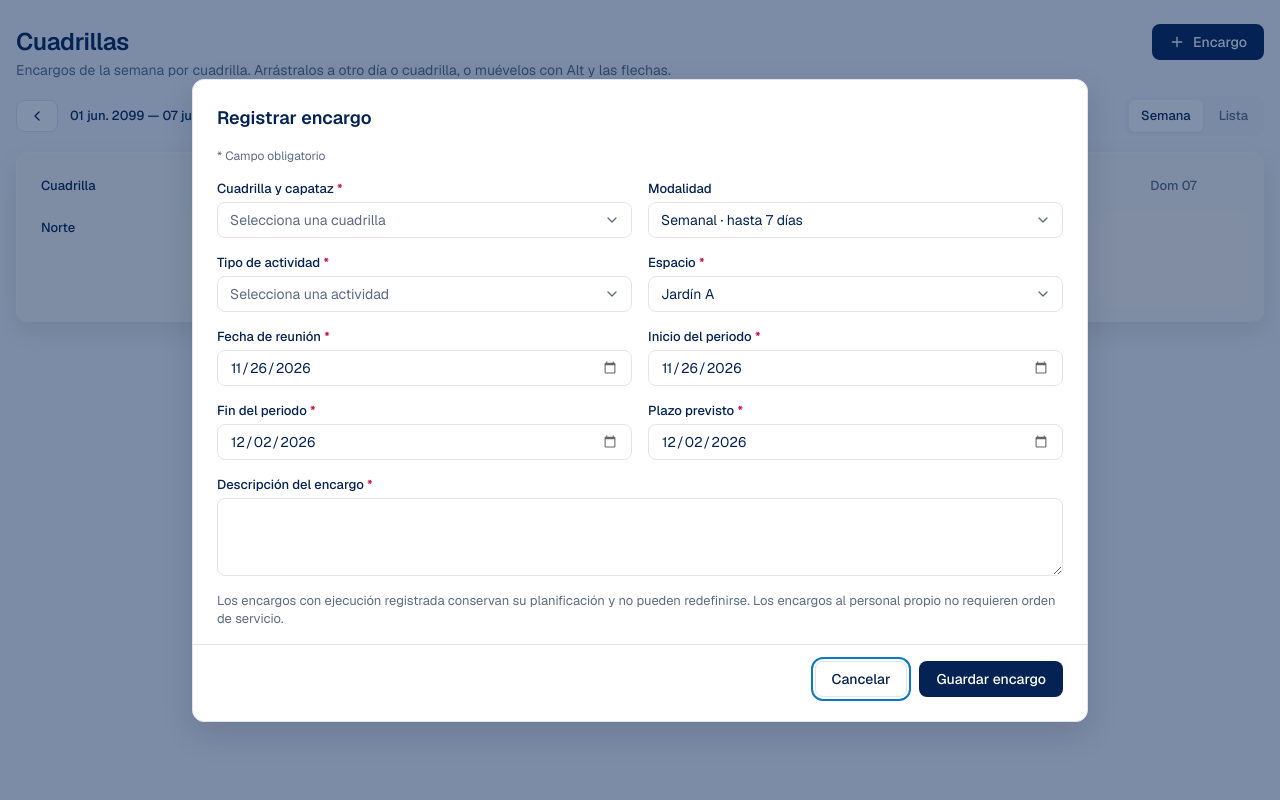
Test: alta del encargo › un error del servidor se enseña en el formulario
Select "Norte · Capataz Norte" in the dropdown labelled "Cuadrilla y capataz *": (424, 220) 217,202 -> 632,238
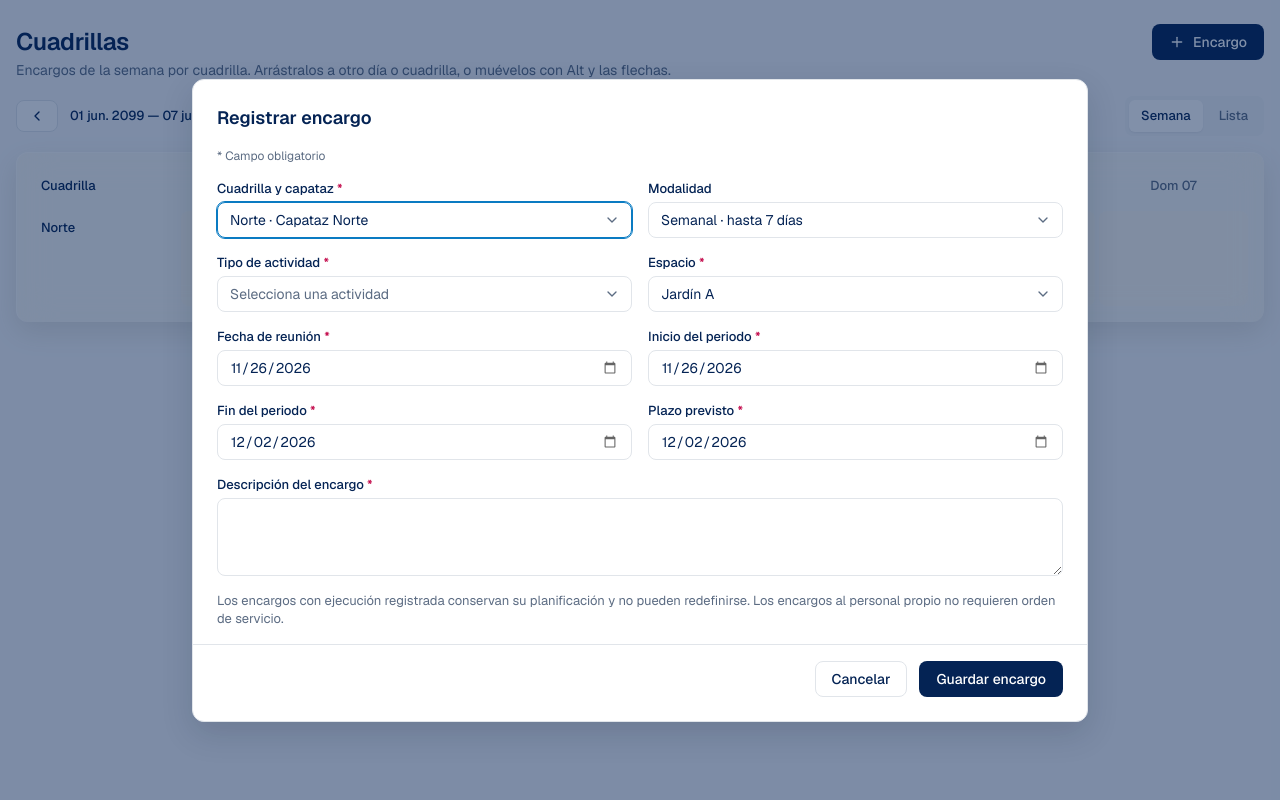
Select "Poda" in the dropdown labelled "Tipo de actividad *": (424, 294) 217,276 -> 632,312
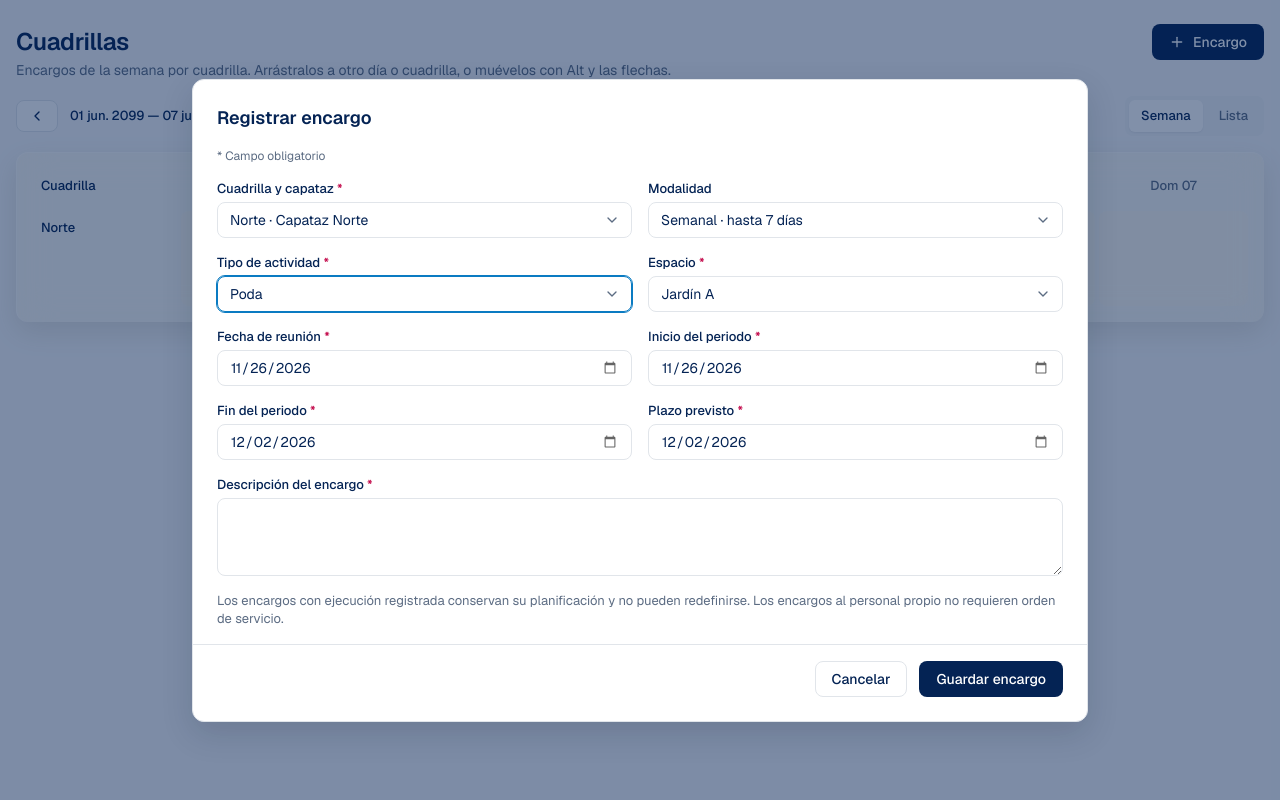
In the text box labelled "Descripción del encargo *": (640, 536) 217,498 -> 1063,576, type "Podar"
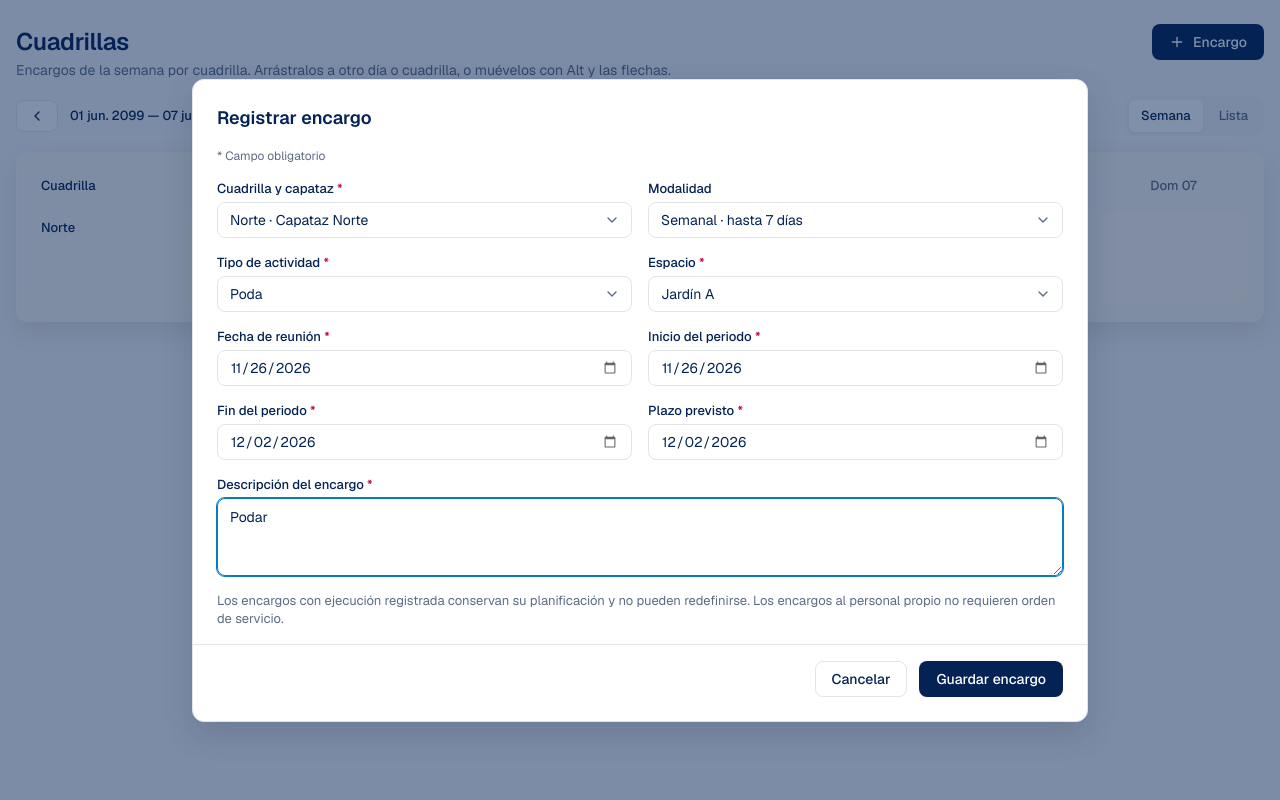
Click the button "Guardar encargo": (991, 678) 920,660 -> 1063,696
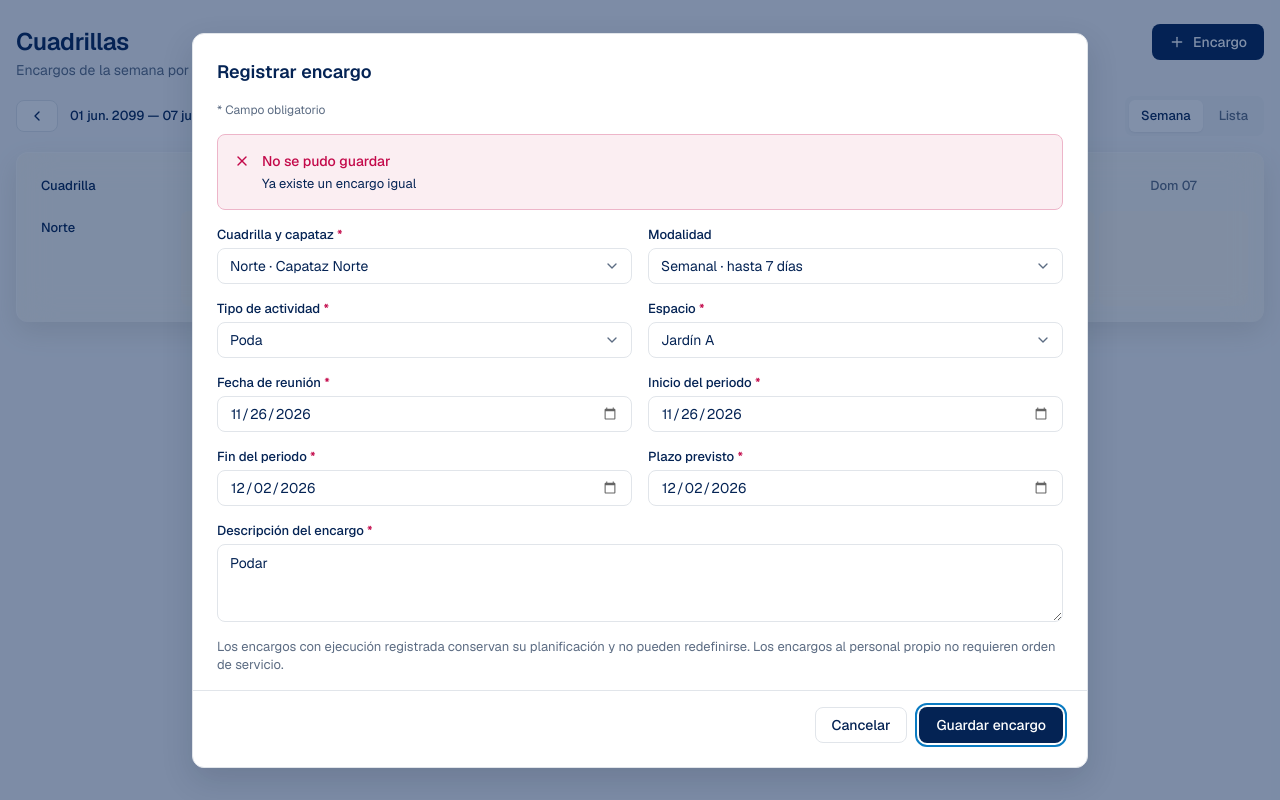
Expected: the text "Ya existe un encargo igual" is shown, 262,174 -> 416,192
